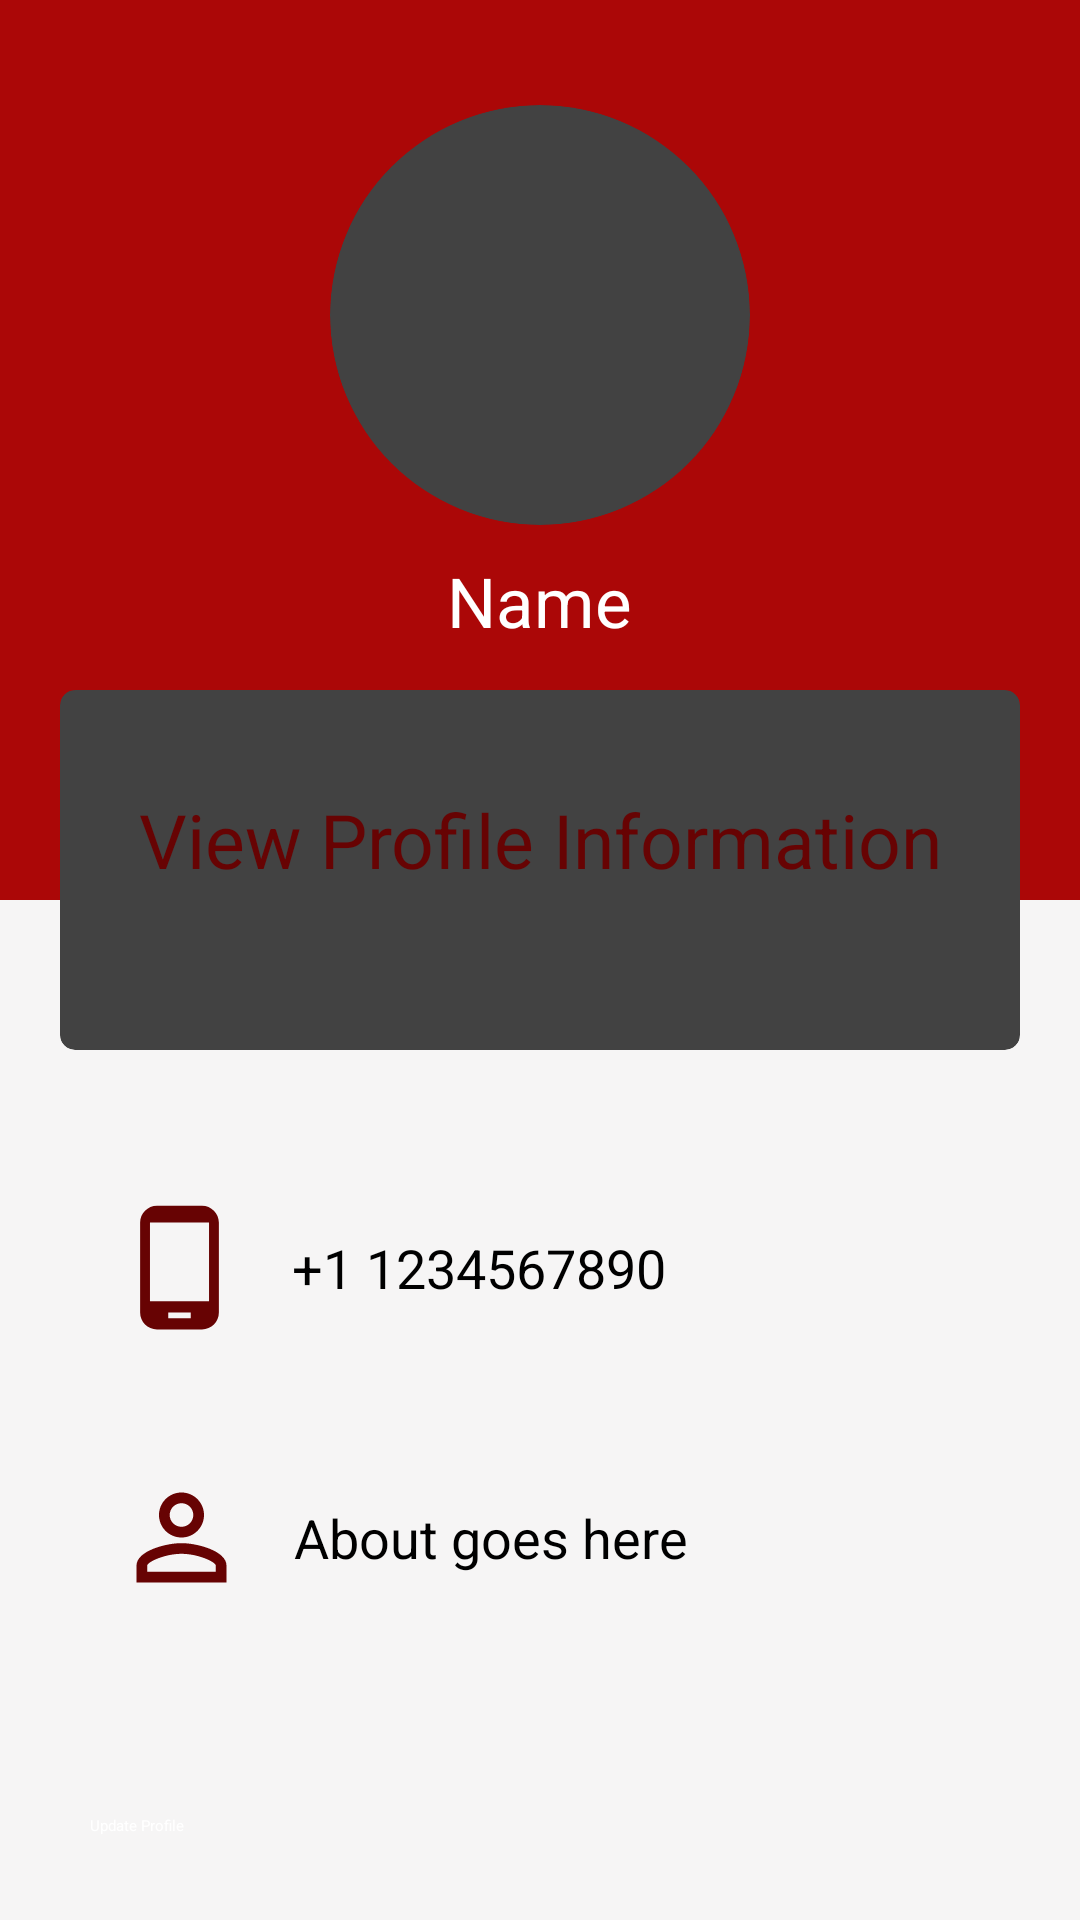

Point at icon controls on the screen. Image size 1080 × 1920, points as point (x, y).
person: point (181, 1537)
phone: point (179, 1267)
